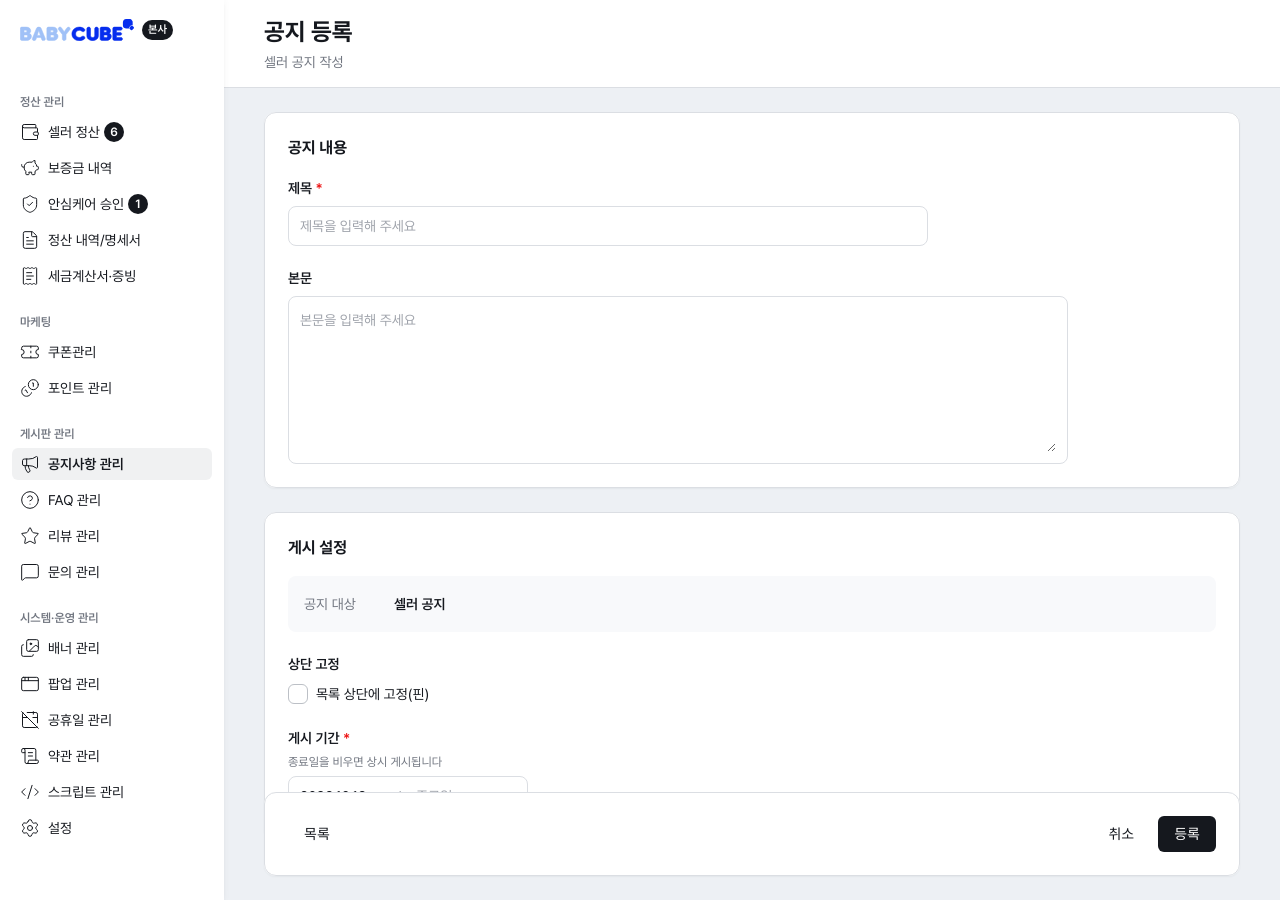
Test: NoticeFormPage (공지 등록/수정) › 신규 — /notices/new › 시작일은 오늘로 미리 차 있고 종료일은 비어 있다 — 제목만 넣으면 등록된다
(page scrolled)
Expected: the button named "게시 기간" shows "2026.10.19", 288,776 -> 528,816
Expected: the button named "게시 기간" shows "종료일", 288,776 -> 528,816
Click the button "등록": click(1187, 834) 1158,816 -> 1216,852
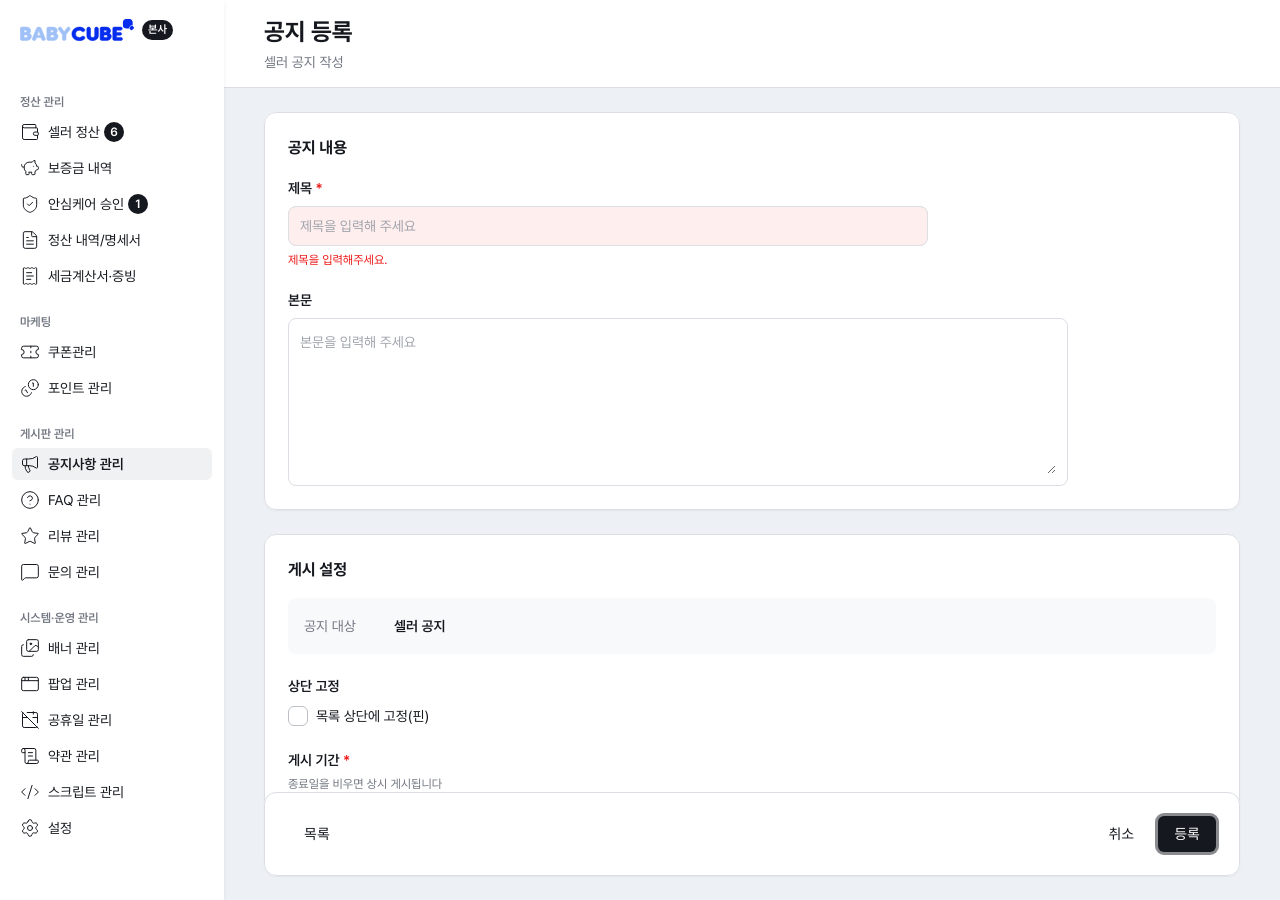
Expected: the text "제목을 입력해주세요." is shown, 288,253 -> 387,267
In the field labelled "제목 *": (608, 226) 300,214 -> 916,238, type "새 공지"
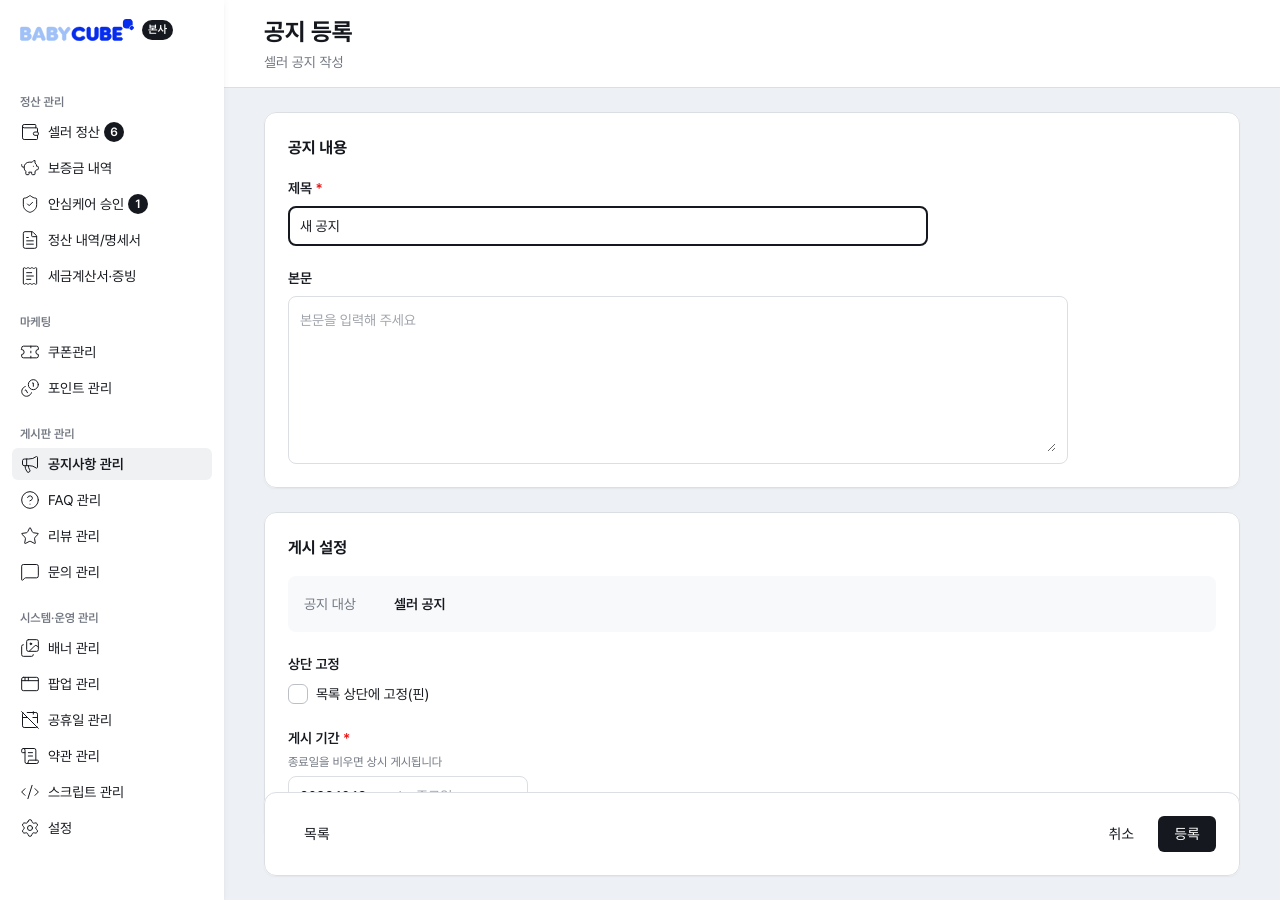
Expected: the text "제목을 입력해주세요." is gone
Click the button "등록": click(1187, 834) 1158,816 -> 1216,852
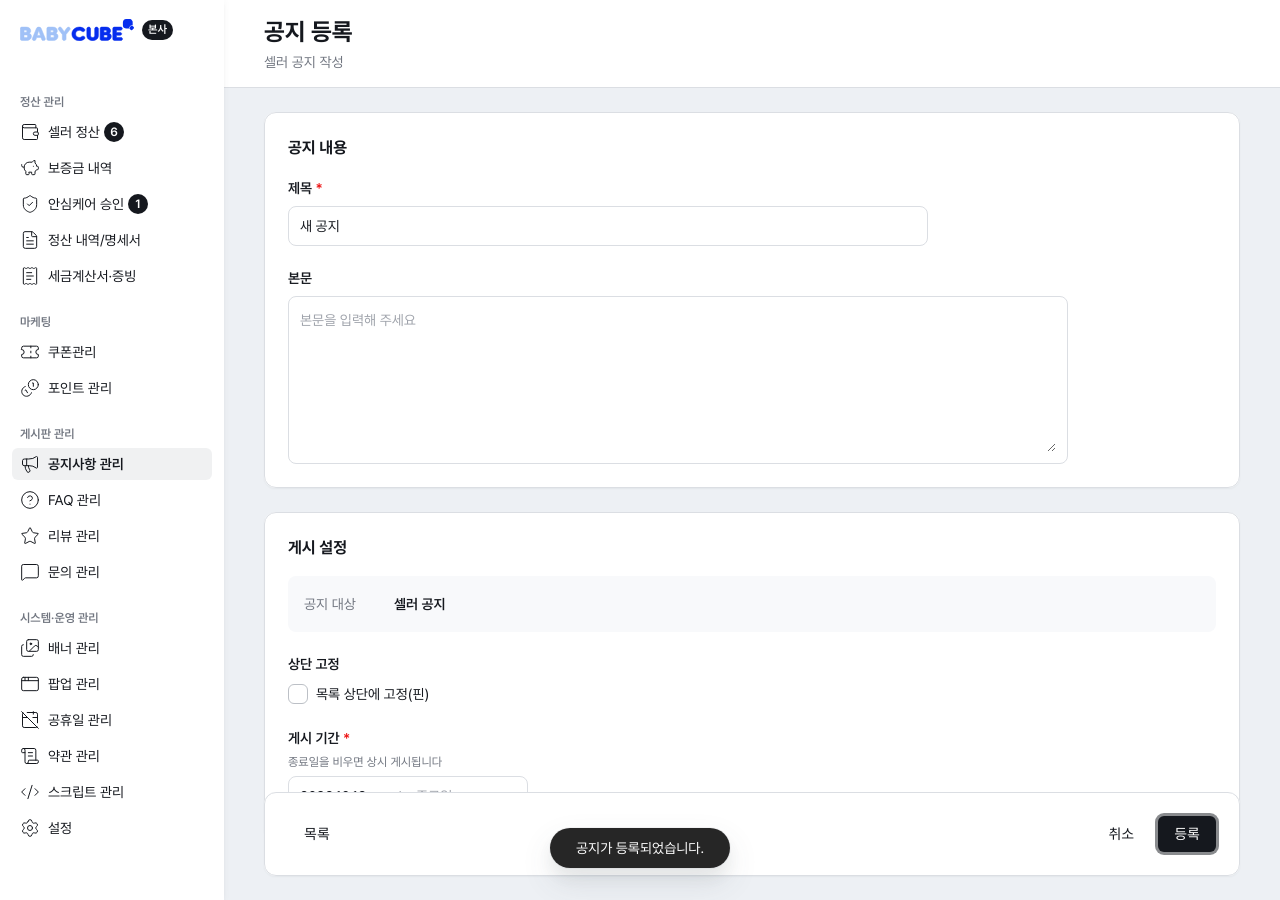
Expected: the text "공지가 등록되었습니다." is shown, 550,828 -> 730,868
